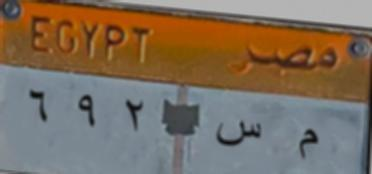2: (126, 93, 148, 136)
6: (22, 84, 56, 132)
9: (73, 86, 103, 136)
meem: (294, 124, 326, 169)
seen: (213, 114, 268, 156)
